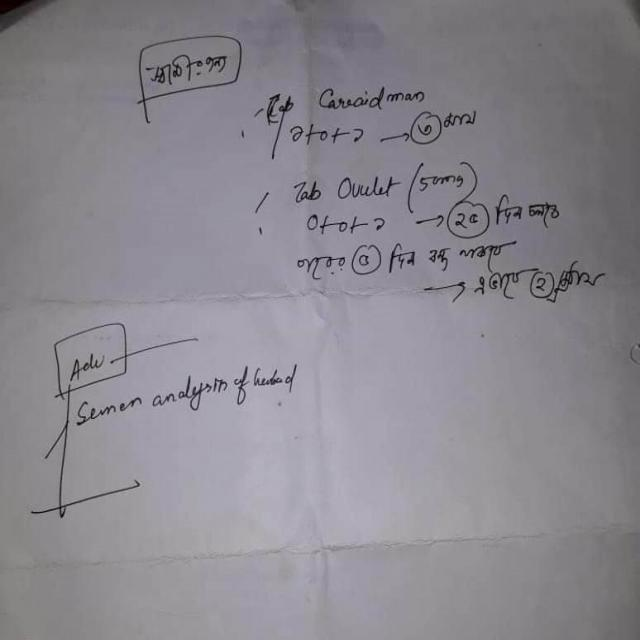Careaid Man: (315, 81, 431, 115)
Ovulet: (331, 167, 404, 204)
